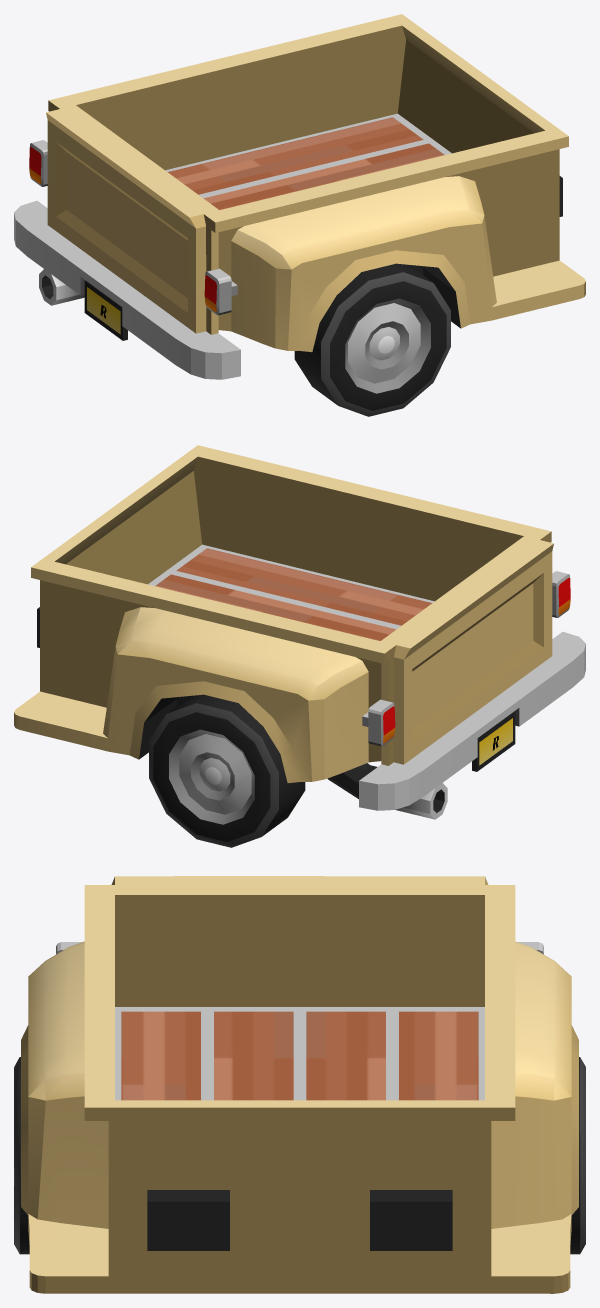
Rendered from Truck_032.glb.
3 views of the same model, one above another, from view 1: azimuth 30°, elevation 25°; view 2: azimuth 150°, elevation 25°; view 3: azimuth 270°, elevation 25° (orthographic). The views are drawn at different scales.
Visible parts, largest first — view 1: Truck_032, wheel_1_Truck_032_Wheel_1R; view 2: Truck_032, wheel_0_Truck_032_Wheel_1L; view 3: Truck_032, wheel_1_Truck_032_Wheel_1R, wheel_0_Truck_032_Wheel_1L.
Boxes of the visible parts, x1,y1,x2,y2 form: Truck_032: [14, 14, 585, 379]; wheel_1_Truck_032_Wheel_1R: [294, 263, 450, 416]; Truck_032: [14, 445, 585, 819]; wheel_0_Truck_032_Wheel_1L: [149, 694, 305, 847]; Truck_032: [21, 876, 578, 1293]; wheel_1_Truck_032_Wheel_1R: [14, 1057, 29, 1254]; wheel_0_Truck_032_Wheel_1L: [570, 1057, 585, 1254].
Bounding box in the file's own units: 2.24 × 1.1 × 2.14.
Materials: 1 (1 with a texture image).
